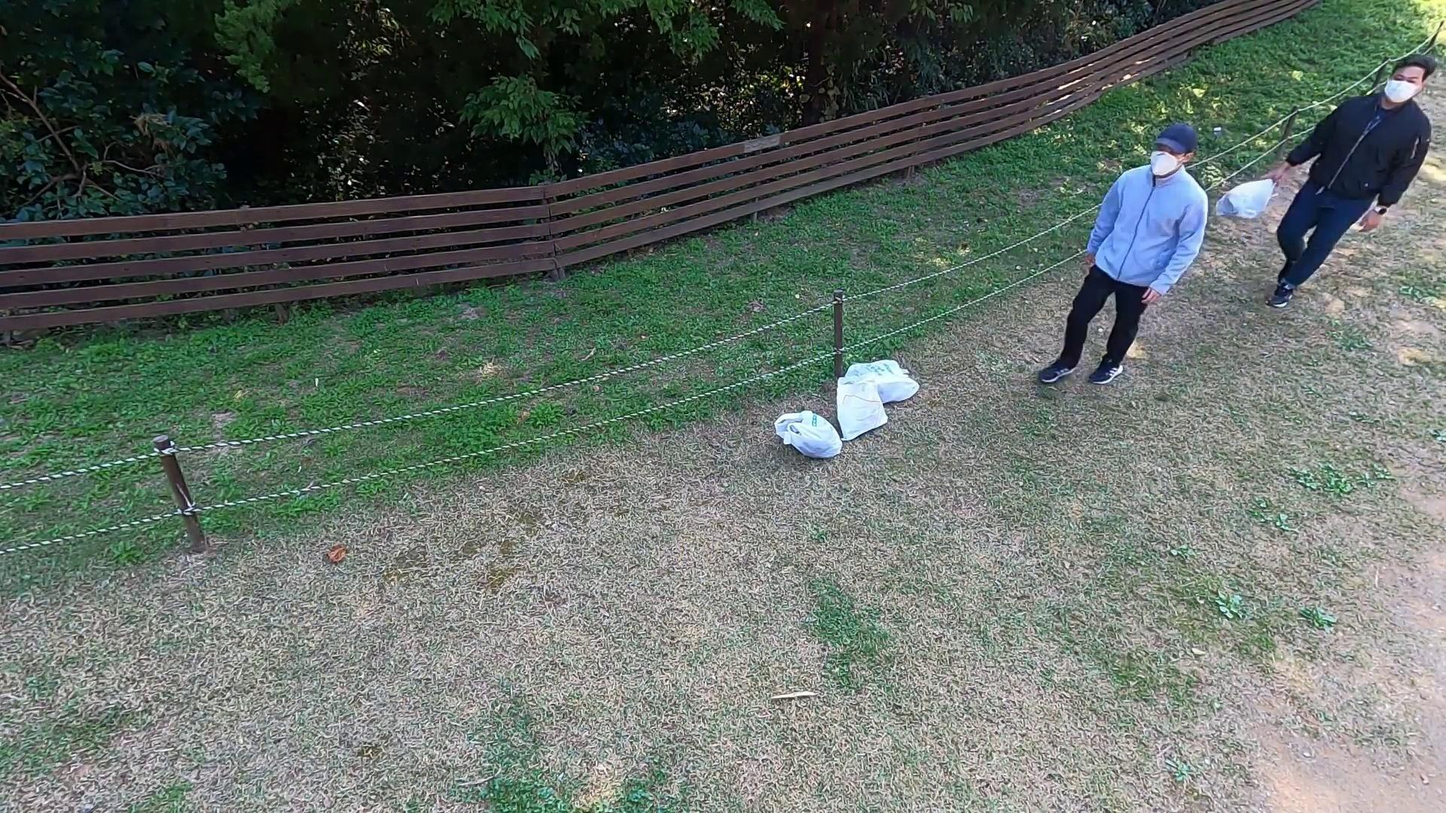person: (1254, 51, 1439, 307), (1039, 124, 1209, 394)
trash: (846, 359, 923, 406), (773, 411, 843, 458), (836, 379, 887, 440), (1218, 177, 1274, 224)
